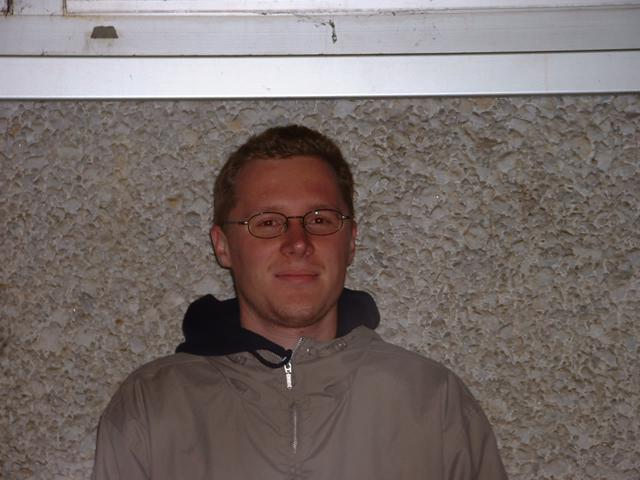Person: (93, 123, 511, 480)
